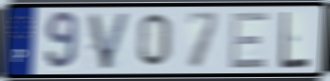0: (135, 12, 175, 70)
7: (186, 10, 220, 71)
9: (44, 9, 80, 73)
E: (227, 10, 271, 71)
L: (279, 9, 311, 71)
V: (86, 10, 133, 72)
